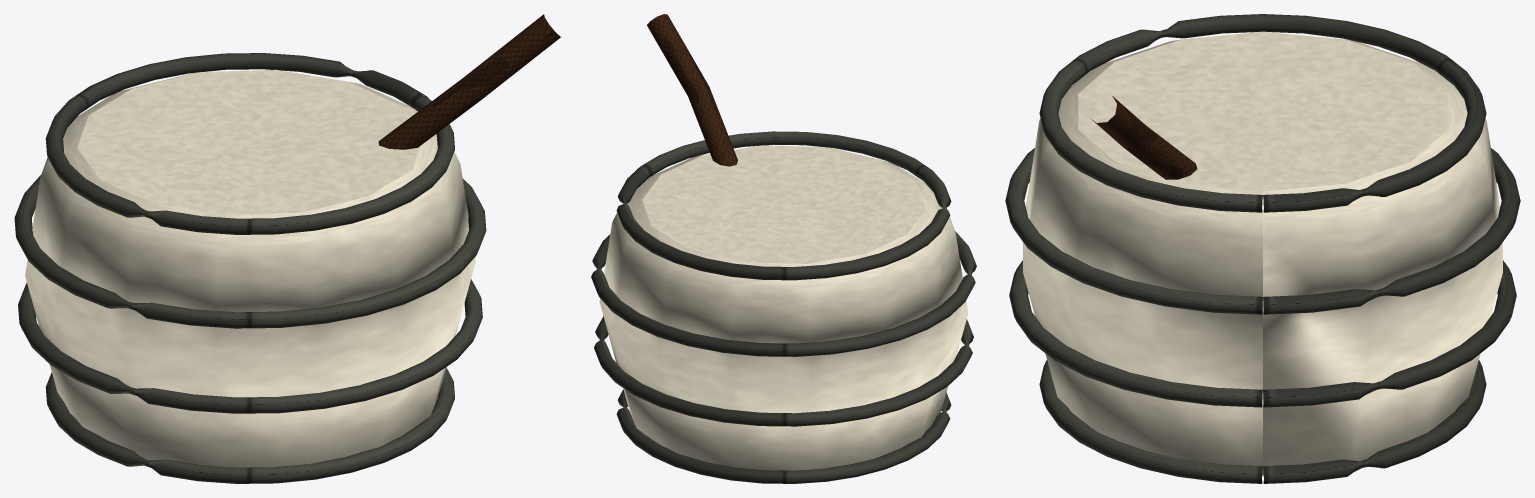
Rendered from paste_pot.glb.
3 renders of one model, left to right at view 1: azimuth 30°, elevation 25°; view 2: azimuth 150°, elevation 25°; view 3: azimuth 270°, elevation 25°, orthographic. The views are drawn at different scales.
Parts seen in each view (by area): view 1: Pot, Art_StoneLedge, Art_WarmWood; view 2: Pot, Art_StoneLedge, Art_WarmWood; view 3: Pot, Art_StoneLedge, Art_WarmWood.
Part boxes in pixels (box(x1,y1,x2,y2)): Pot: box(25, 69, 475, 467); Art_StoneLedge: box(14, 53, 486, 483); Art_WarmWood: box(378, 14, 560, 149); Pot: box(599, 145, 968, 470); Art_StoneLedge: box(591, 131, 976, 483); Art_WarmWood: box(647, 14, 737, 166); Pot: box(1023, 31, 1502, 475); Art_StoneLedge: box(1005, 14, 1520, 483); Art_WarmWood: box(1090, 96, 1197, 179).
Size of the model in its own units: 0.2939 by 0.2494 by 0.272.
3 materials, 3 textured.
